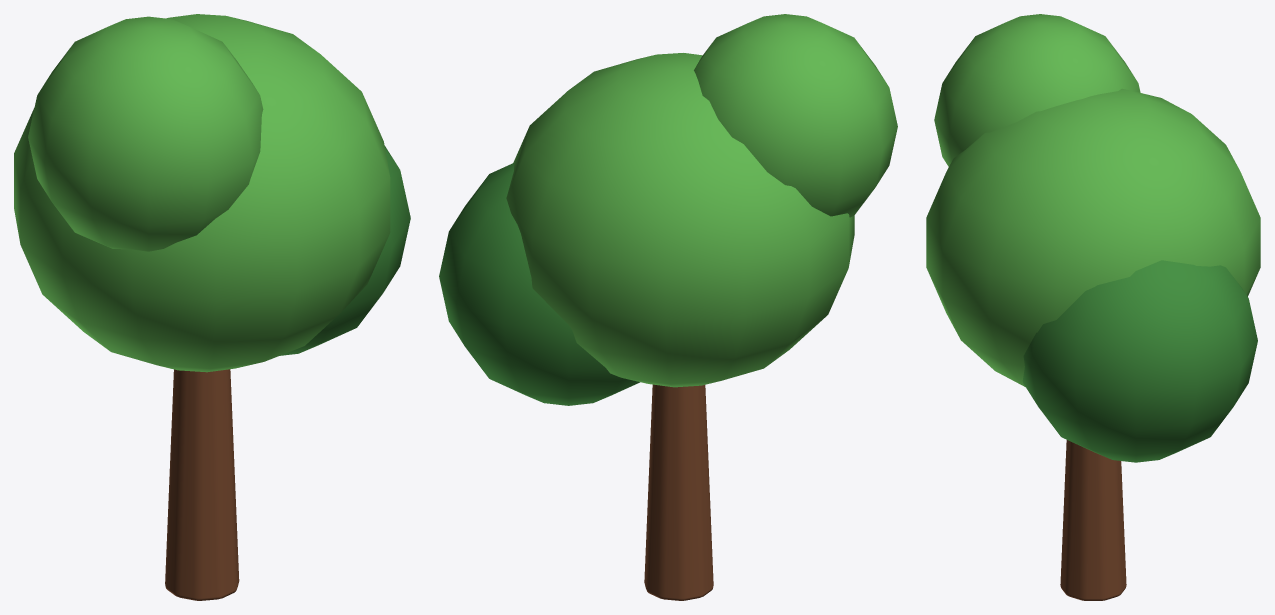
File: faire_tree.glb
The picture shows the model from 3 angles, left to right: view 1: azimuth 30°, elevation 25°; view 2: azimuth 150°, elevation 25°; view 3: azimuth 270°, elevation 25°; orthographic projection. The views are drawn at different scales.
Parts seen in each view (by area): view 1: Tree; view 2: Tree; view 3: Tree.
Part boxes in pixels (bbox=[...]): Tree: bbox=[14, 14, 410, 600]; Tree: bbox=[439, 14, 897, 600]; Tree: bbox=[926, 14, 1260, 600].
Size of the model in its own units: 3.85 by 5.5 by 3.15.
